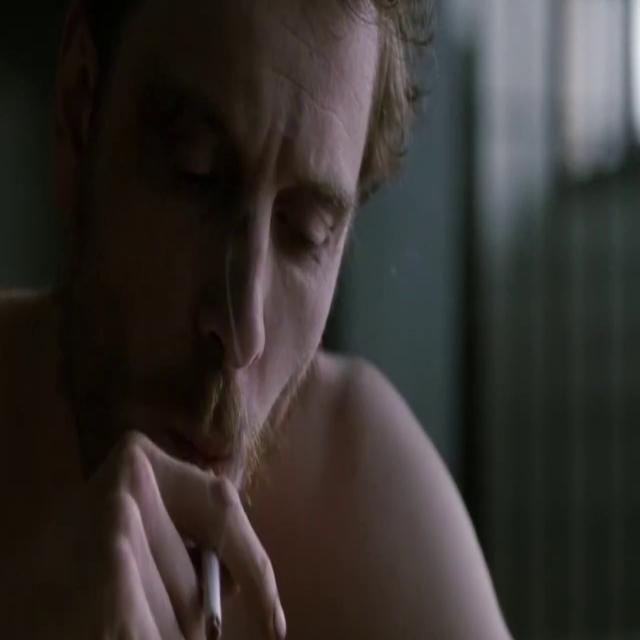Smooking: (200, 508, 231, 634)
